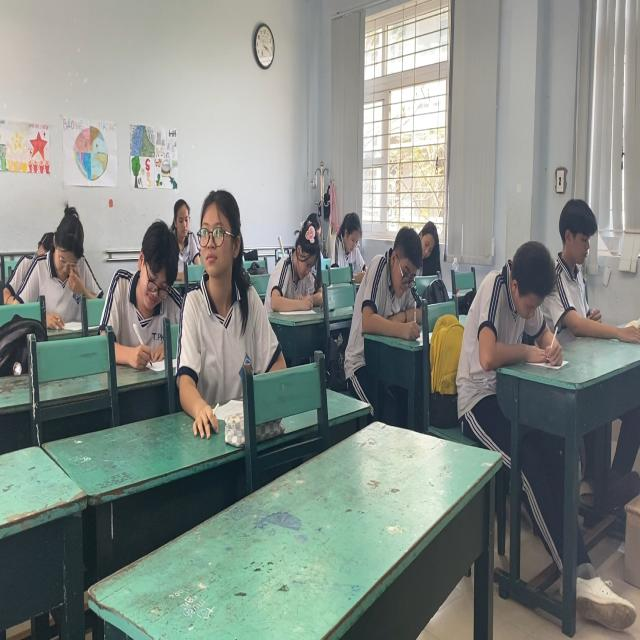cheating: (168, 188, 274, 418)
not_cheating: (103, 220, 191, 368), (470, 236, 566, 343), (547, 192, 618, 336), (360, 222, 426, 347), (24, 202, 95, 312), (276, 218, 329, 305), (329, 192, 369, 270), (418, 206, 444, 270)
